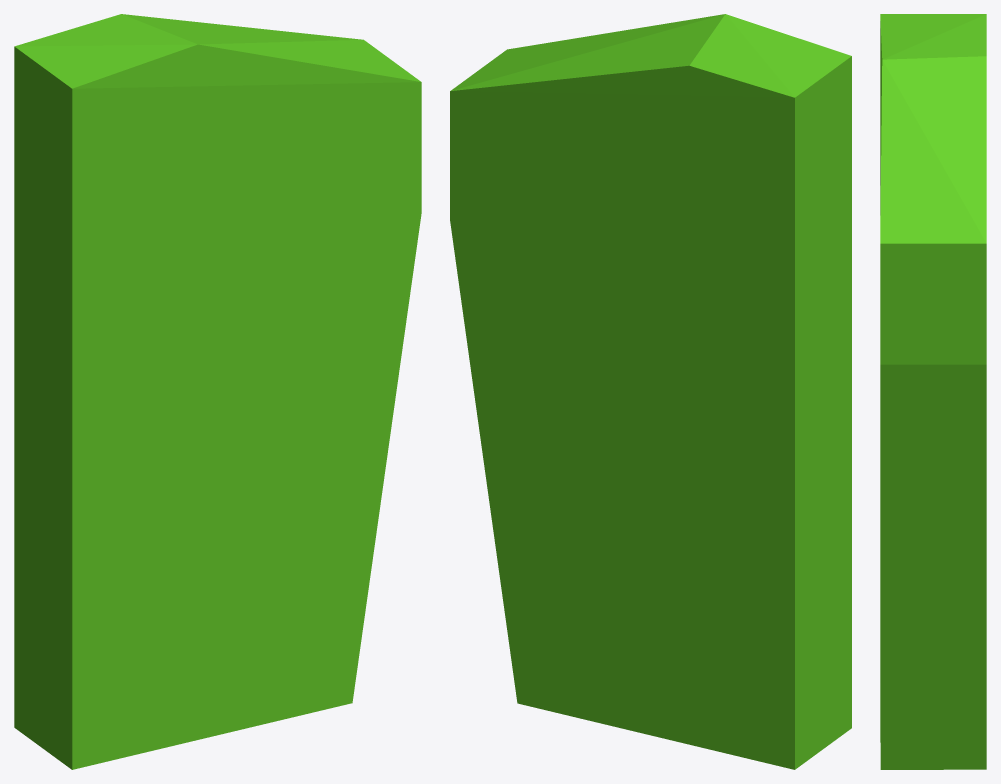
3 renders of one model, left to right at view 1: azimuth 30°, elevation 25°; view 2: azimuth 150°, elevation 25°; view 3: azimuth 270°, elevation 25°, orthographic. The views are drawn at different scales.
Bounding box in the file's own units: 7.1 × 13.5 × 2.03.
